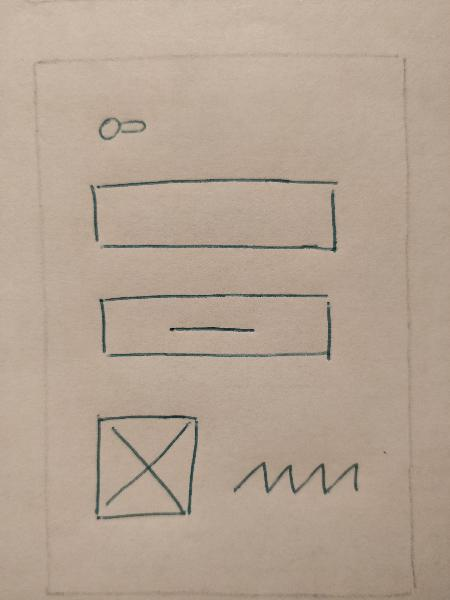button: (85, 286, 345, 368)
image: (79, 403, 213, 530)
switch: (86, 107, 154, 148)
text: (228, 445, 376, 510)
text_input: (84, 173, 349, 262)
